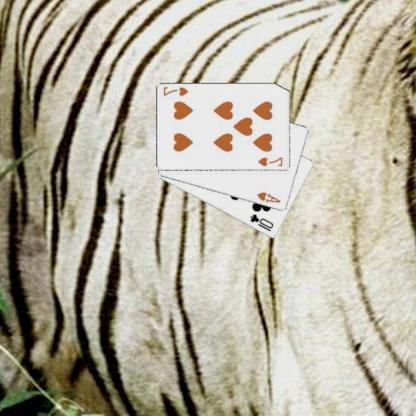10C: (249, 212, 277, 232)
7H: (258, 154, 286, 168), (163, 84, 191, 98)
AH: (256, 190, 283, 204)
